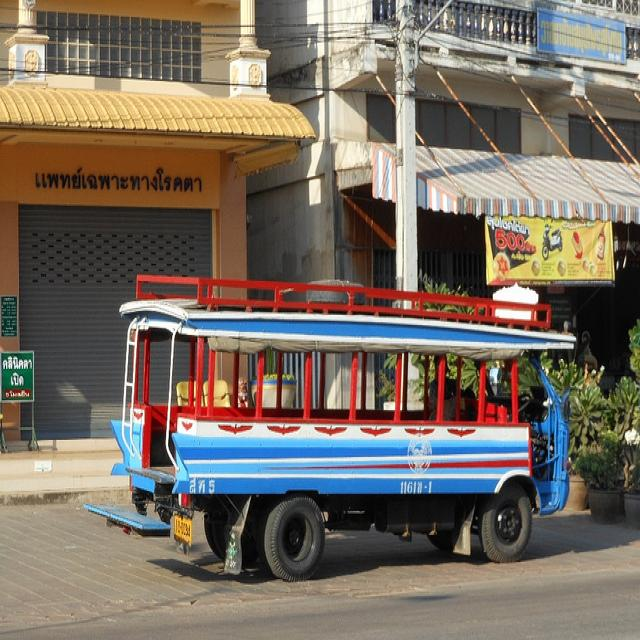motor: (542, 224, 563, 260)
